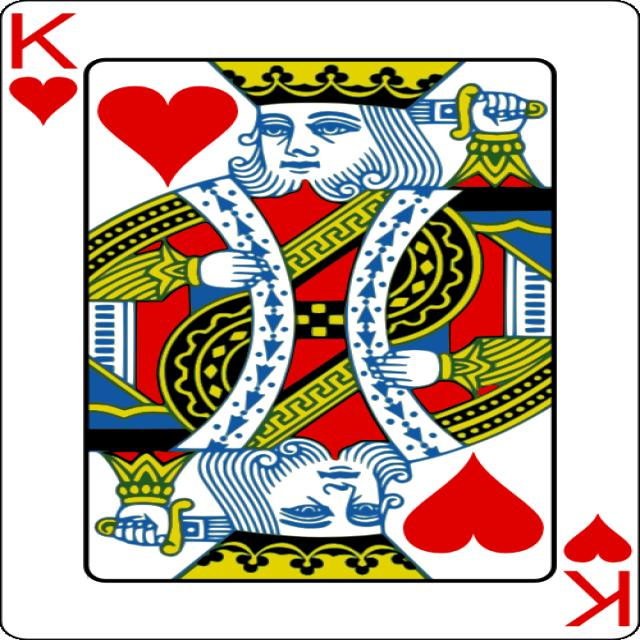Heart: (402, 451, 544, 554), (98, 86, 238, 187), (563, 512, 633, 564), (9, 76, 78, 126)
King: (10, 12, 80, 69), (563, 570, 631, 627)
